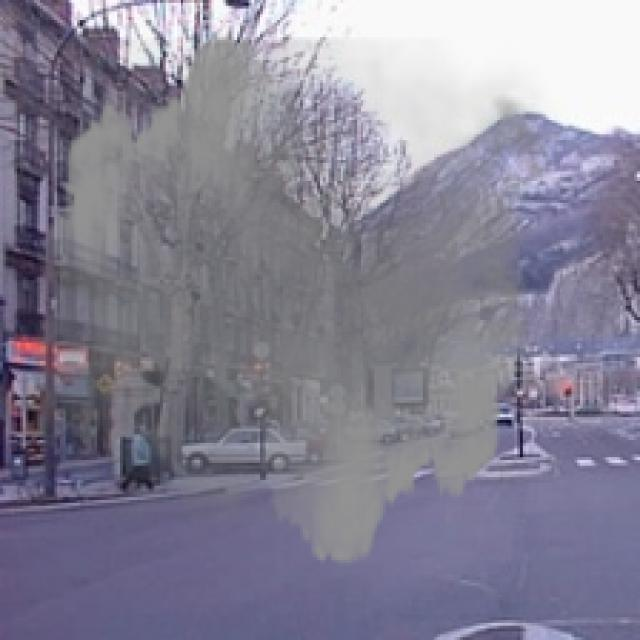Smoke: (14, 17, 566, 583)
